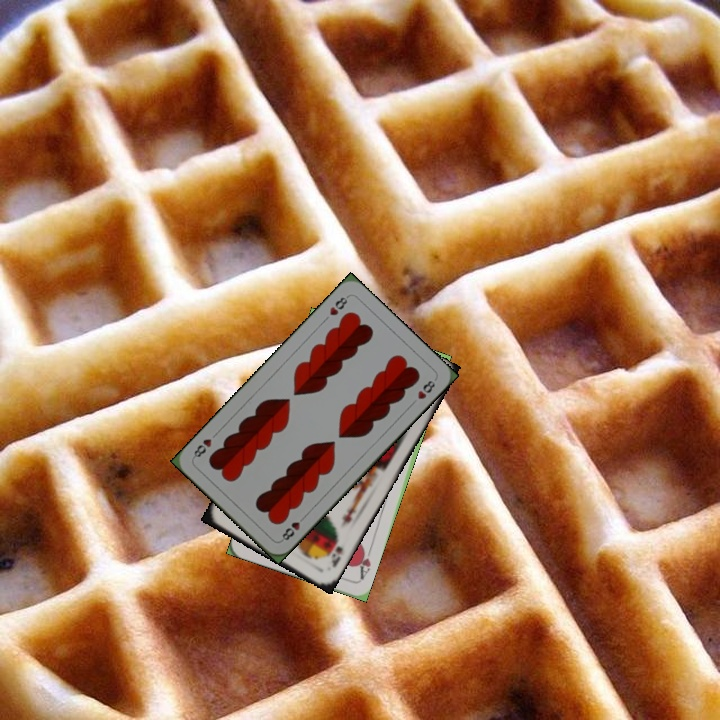H8: (277, 511, 308, 544), (325, 292, 351, 318)
HA: (353, 543, 374, 582)
SK: (327, 542, 346, 570)
